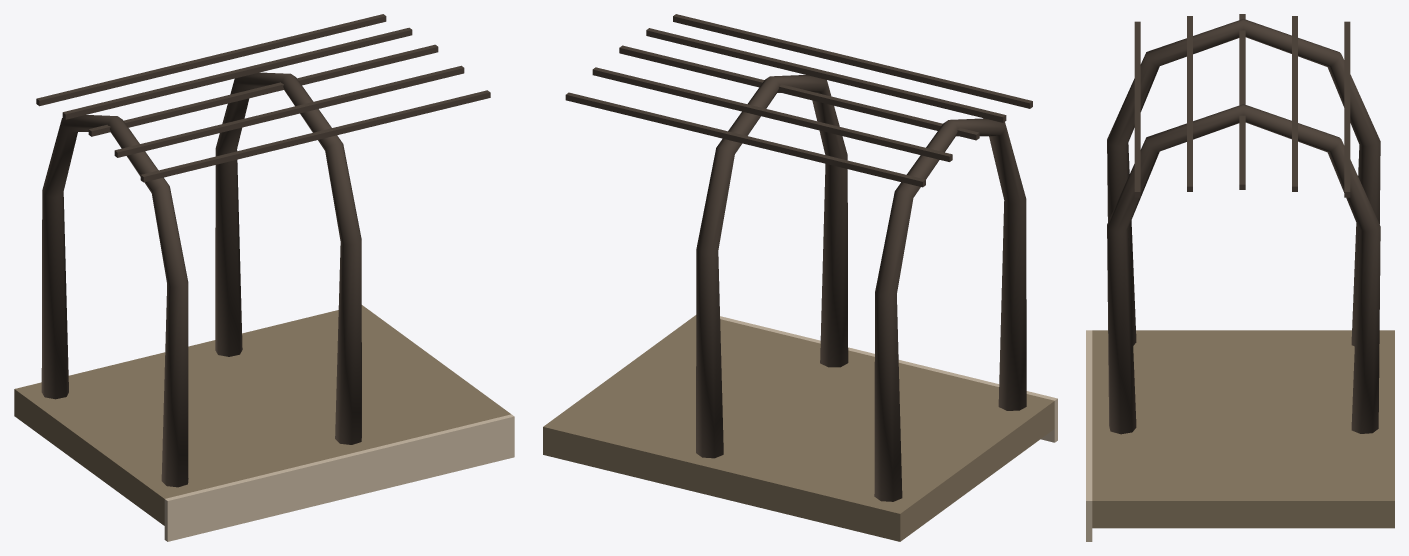
File: city_walk_open.glb
The picture shows the model from 3 angles, left to right: view 1: azimuth 30°, elevation 25°; view 2: azimuth 150°, elevation 25°; view 3: azimuth 270°, elevation 25°; orthographic projection. The views are drawn at different scales.
Parts seen in each view (by area): view 1: CityWalkOpen_Deck, CityWalkOpen_Edge, CityWalkOpen_Rib0.3, CityWalkOpen_Rib2.3, CityWalkOpen_Lath3, CityWalkOpen_Lath4, CityWalkOpen_Lath0, CityWalkOpen_Lath1, CityWalkOpen_Lath2; view 2: CityWalkOpen_Deck, CityWalkOpen_Rib0.3, CityWalkOpen_Rib2.3, CityWalkOpen_Lath4, CityWalkOpen_Lath1, CityWalkOpen_Lath3, CityWalkOpen_Lath0, CityWalkOpen_Lath2, CityWalkOpen_Edge; view 3: CityWalkOpen_Deck, CityWalkOpen_Rib2.3, CityWalkOpen_Rib0.3, CityWalkOpen_Edge, CityWalkOpen_Lath0, CityWalkOpen_Lath4, CityWalkOpen_Lath2, CityWalkOpen_Lath1, CityWalkOpen_Lath3.
Boxes of the visible parts, x1=… form: CityWalkOpen_Deck: x1=14, y1=305, x2=510, y2=525; CityWalkOpen_Edge: x1=164, y1=414, x2=514, y2=541; CityWalkOpen_Rib0.3: x1=41, y1=115, x2=188, y2=487; CityWalkOpen_Rib2.3: x1=215, y1=72, x2=361, y2=444; CityWalkOpen_Lath3: x1=62, y1=27, x2=412, y2=119; CityWalkOpen_Lath4: x1=36, y1=14, x2=386, y2=106; CityWalkOpen_Lath0: x1=140, y1=90, x2=490, y2=182; CityWalkOpen_Lath1: x1=114, y1=65, x2=464, y2=157; CityWalkOpen_Lath2: x1=88, y1=44, x2=438, y2=136; CityWalkOpen_Deck: x1=543, y1=315, x2=1054, y2=541; CityWalkOpen_Rib0.3: x1=874, y1=118, x2=1026, y2=501; CityWalkOpen_Rib2.3: x1=696, y1=75, x2=848, y2=458; CityWalkOpen_Lath4: x1=565, y1=92, x2=925, y2=187; CityWalkOpen_Lath1: x1=646, y1=28, x2=1006, y2=122; CityWalkOpen_Lath3: x1=592, y1=67, x2=952, y2=161; CityWalkOpen_Lath0: x1=673, y1=14, x2=1032, y2=108; CityWalkOpen_Lath2: x1=619, y1=45, x2=979, y2=140; CityWalkOpen_Edge: x1=720, y1=316, x2=1057, y2=442; CityWalkOpen_Deck: x1=1092, y1=330, x2=1394, y2=528; CityWalkOpen_Rib2.3: x1=1107, y1=104, x2=1380, y2=434; CityWalkOpen_Rib0.3: x1=1107, y1=19, x2=1380, y2=346; CityWalkOpen_Edge: x1=1086, y1=330, x2=1092, y2=541; CityWalkOpen_Lath0: x1=1134, y1=21, x2=1140, y2=197; CityWalkOpen_Lath4: x1=1344, y1=21, x2=1350, y2=197; CityWalkOpen_Lath2: x1=1239, y1=14, x2=1245, y2=189; CityWalkOpen_Lath1: x1=1187, y1=16, x2=1192, y2=191; CityWalkOpen_Lath3: x1=1292, y1=16, x2=1297, y2=191.
Bounding box in the file's own units: 4 × 3.99 × 3.06.
